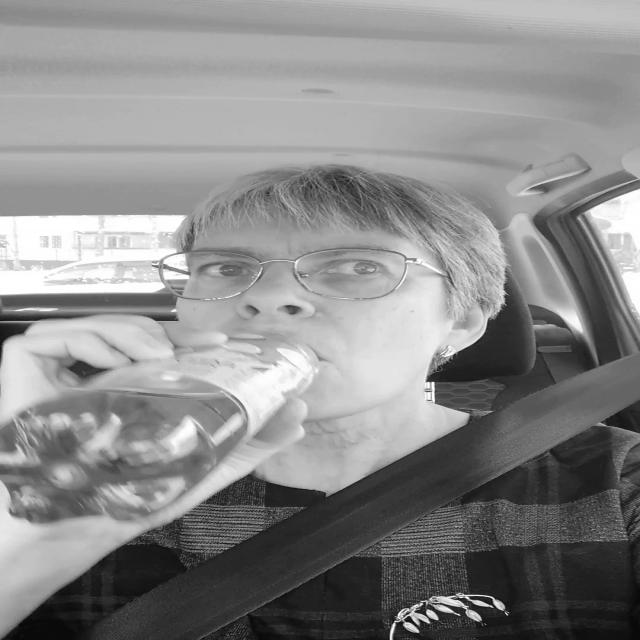Drinking: (16, 325, 310, 528)
Seatbelt: (107, 358, 640, 640)
